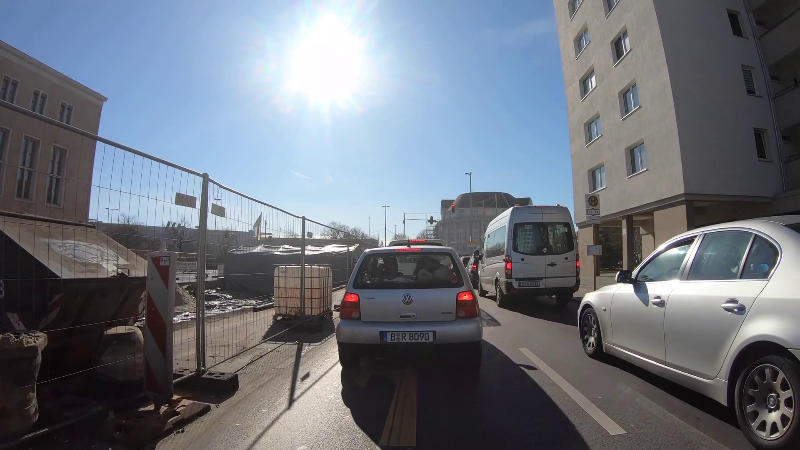Plate: (380, 331, 436, 343), (517, 278, 542, 286)
